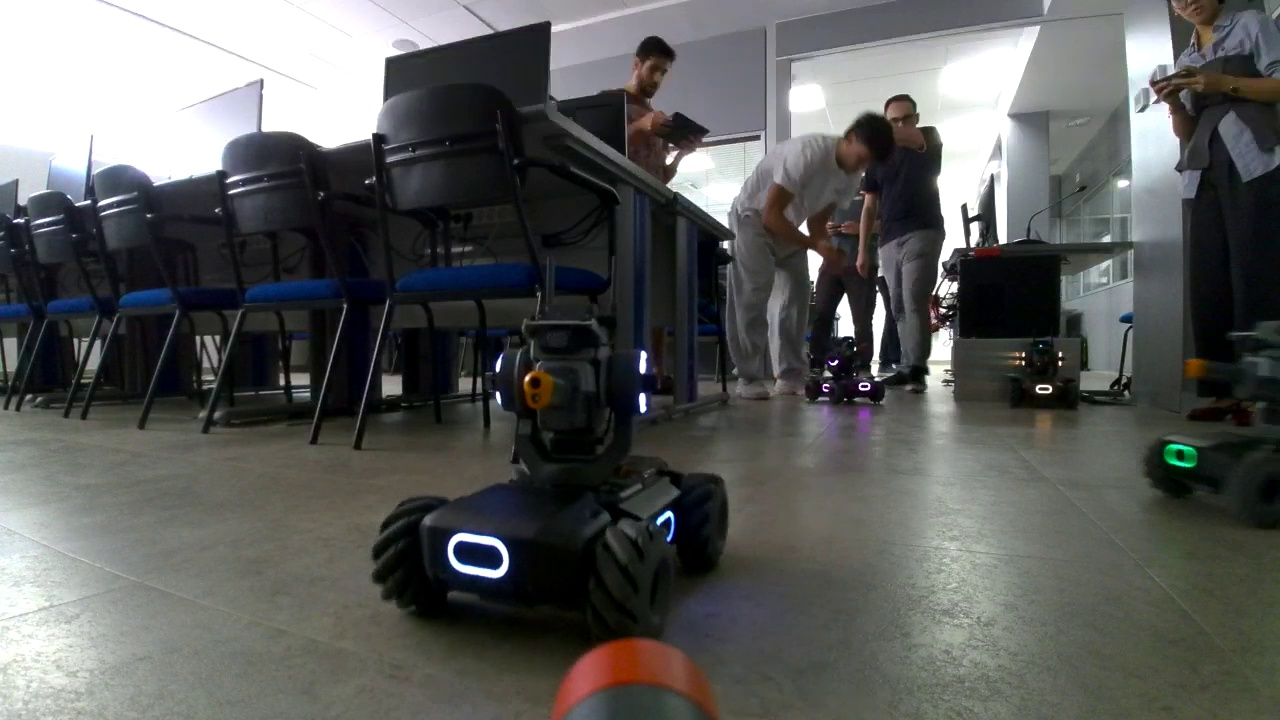robot: (366, 257, 729, 646), (1145, 317, 1280, 521), (1009, 332, 1082, 407), (805, 343, 883, 403)
